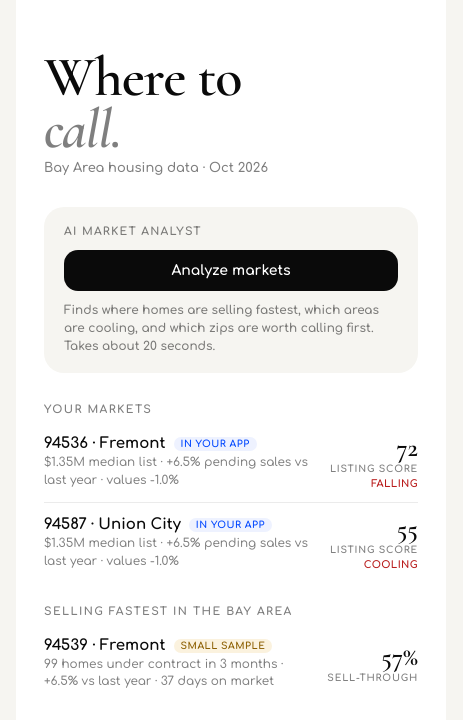
Scenario: Markets page: the AI analyst › runs on demand and shows ranked recommendations, the evidence, and what it checked
Click the button "Analyze markets": [231, 270] box [64, 250, 398, 291]
(page scrolled)
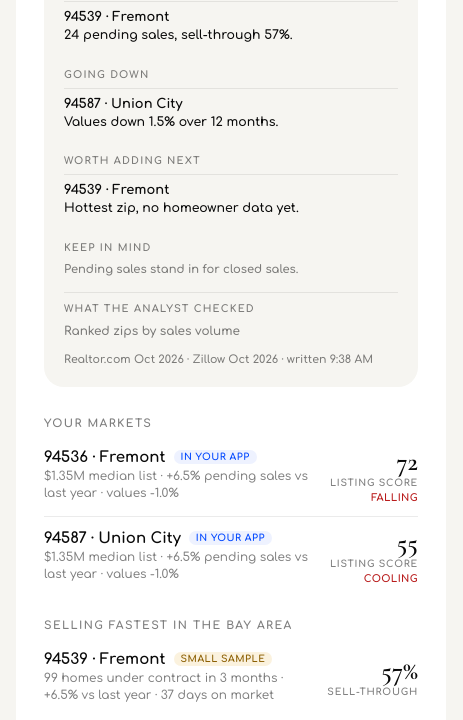
Check: the text "Going down" is shown, box [64, 68, 150, 80]
Check: the text "Worth adding next" is shown, box [64, 155, 201, 166]
Check: the text "Keep in mind" is shown, box [64, 242, 152, 253]
